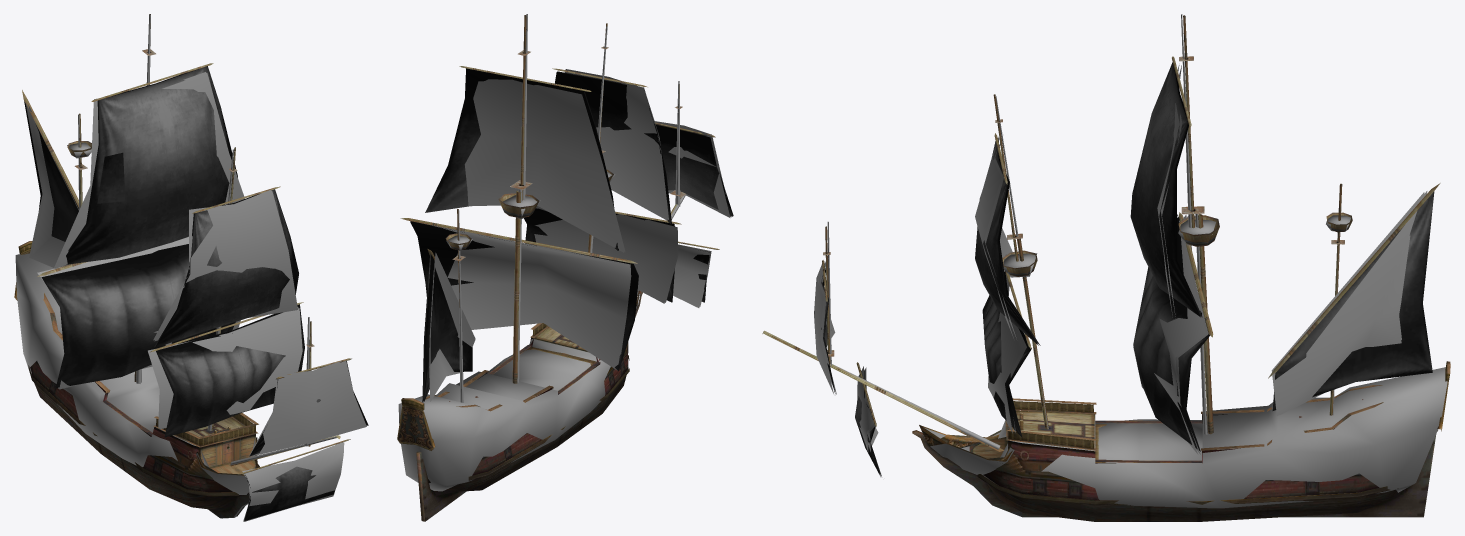
The model's file is F_Ship_05.fbx.
3 views of the same model, side by side, from view 1: azimuth 30°, elevation 25°; view 2: azimuth 150°, elevation 25°; view 3: azimuth 270°, elevation 25° (orthographic). The views are drawn at different scales.
Parts seen in each view (by area): view 1: F_Ship_05_Sail, F_Ship_05_FakeShadow, F_Ship_05; view 2: F_Ship_05_FakeShadow, F_Ship_05_Sail, F_Ship_05; view 3: F_Ship_05_FakeShadow, F_Ship_05, F_Ship_05_Sail.
Boxes of the visible parts, <box> form: F_Ship_05_Sail: <box>24,66,368,520</box>; F_Ship_05_FakeShadow: <box>15,14,366,521</box>; F_Ship_05: <box>14,14,351,518</box>; F_Ship_05_FakeShadow: <box>398,14,731,491</box>; F_Ship_05_Sail: <box>410,68,733,402</box>; F_Ship_05: <box>397,15,719,521</box>; F_Ship_05_FakeShadow: <box>814,14,1447,508</box>; F_Ship_05: <box>762,15,1450,521</box>; F_Ship_05_Sail: <box>814,62,1434,476</box>.
Bounding box in the file's own units: 0.3654 × 0.6741 × 0.8367.
Materials: 3 (2 with a texture image).
